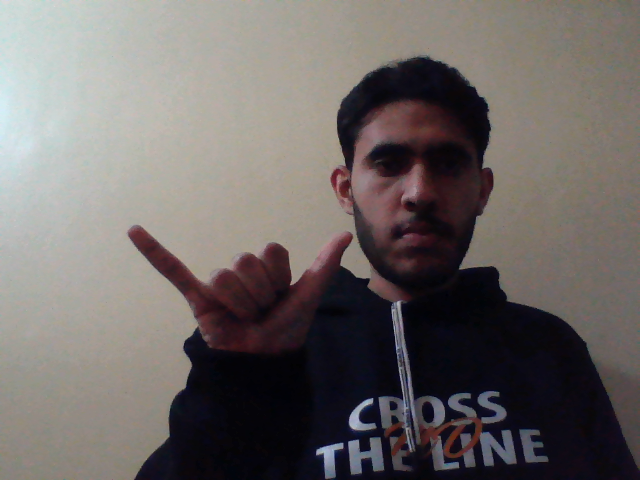Y: (120, 219, 360, 370)
